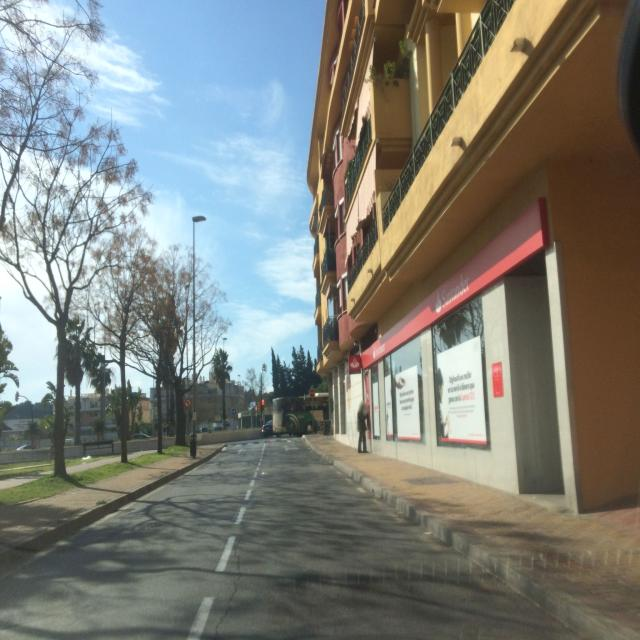car: (261, 423, 274, 437)
